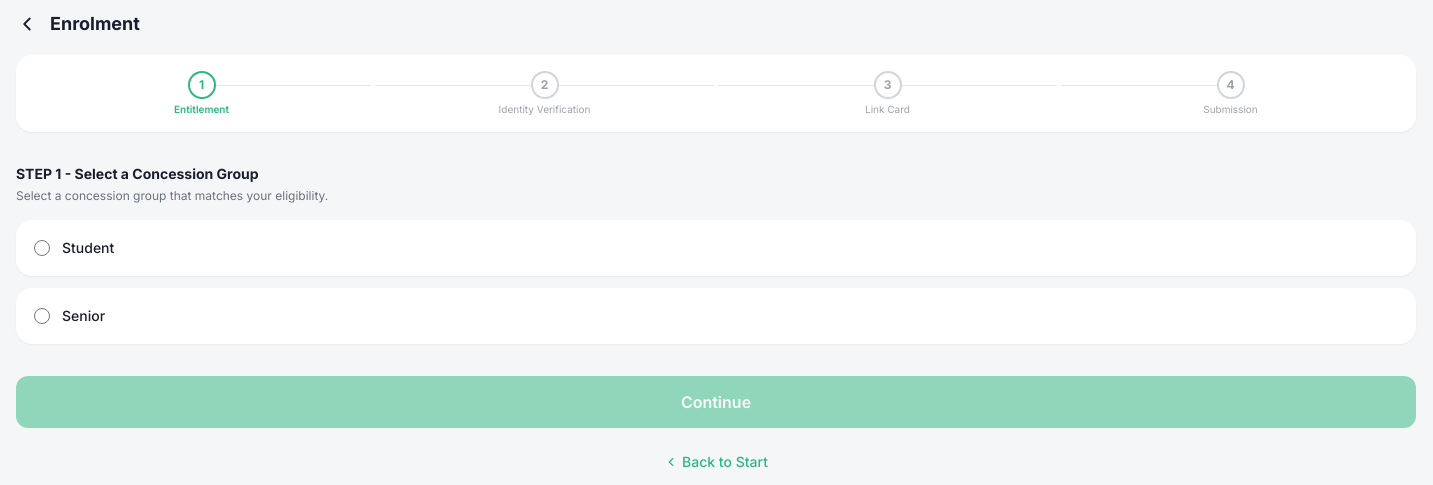
it: EnrolmentStep1Page › Continue button enabled after selecting Student
Click the radio button labelled "Student".
click(42, 248)  # box [34,240,50,256]
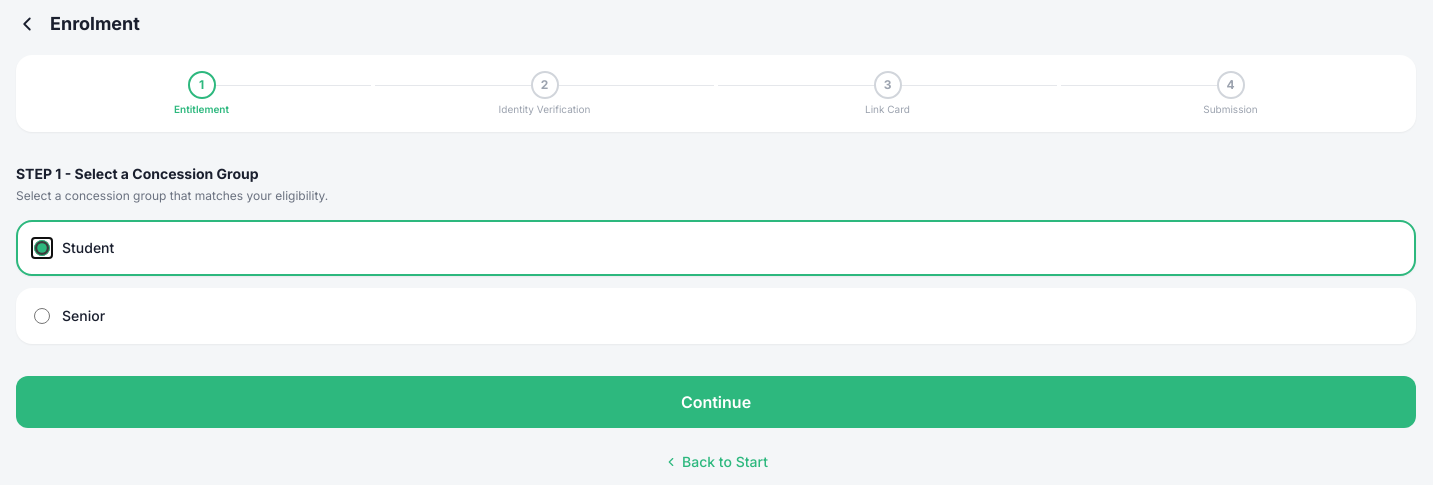
Now the button "Continue" is enabled, box [16,376,1416,428]
